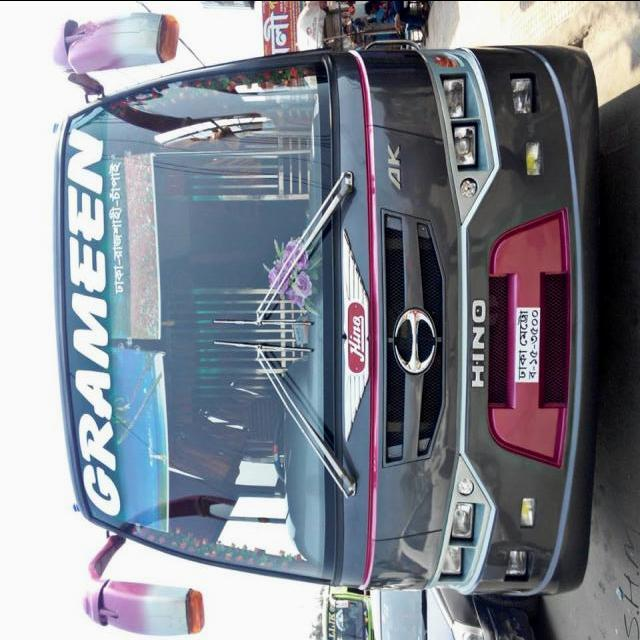bus: (50, 11, 604, 637)
